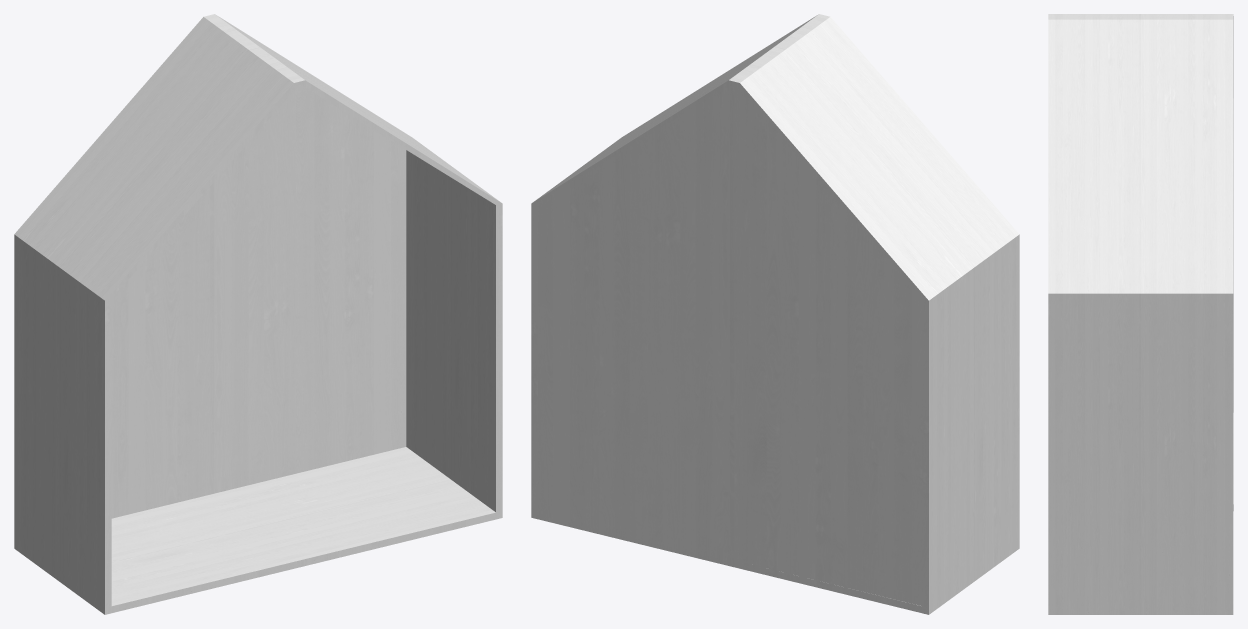
The model's file is House shelf 3.fbx.
3 views of the same model, side by side, from view 1: azimuth 30°, elevation 25°; view 2: azimuth 150°, elevation 25°; view 3: azimuth 270°, elevation 25° (orthographic). The views are drawn at different scales.
Visible parts, largest first — view 1: House shelf 3; view 2: House shelf 3; view 3: House shelf 3.
Boxes of the visible parts, <box> form: House shelf 3: <box>14,14,502,614</box>; House shelf 3: <box>531,14,1019,614</box>; House shelf 3: <box>1048,14,1233,614</box>.
Size of the model in its own units: 29.84 by 34.82 by 11.78.
1 material, 1 textured.
